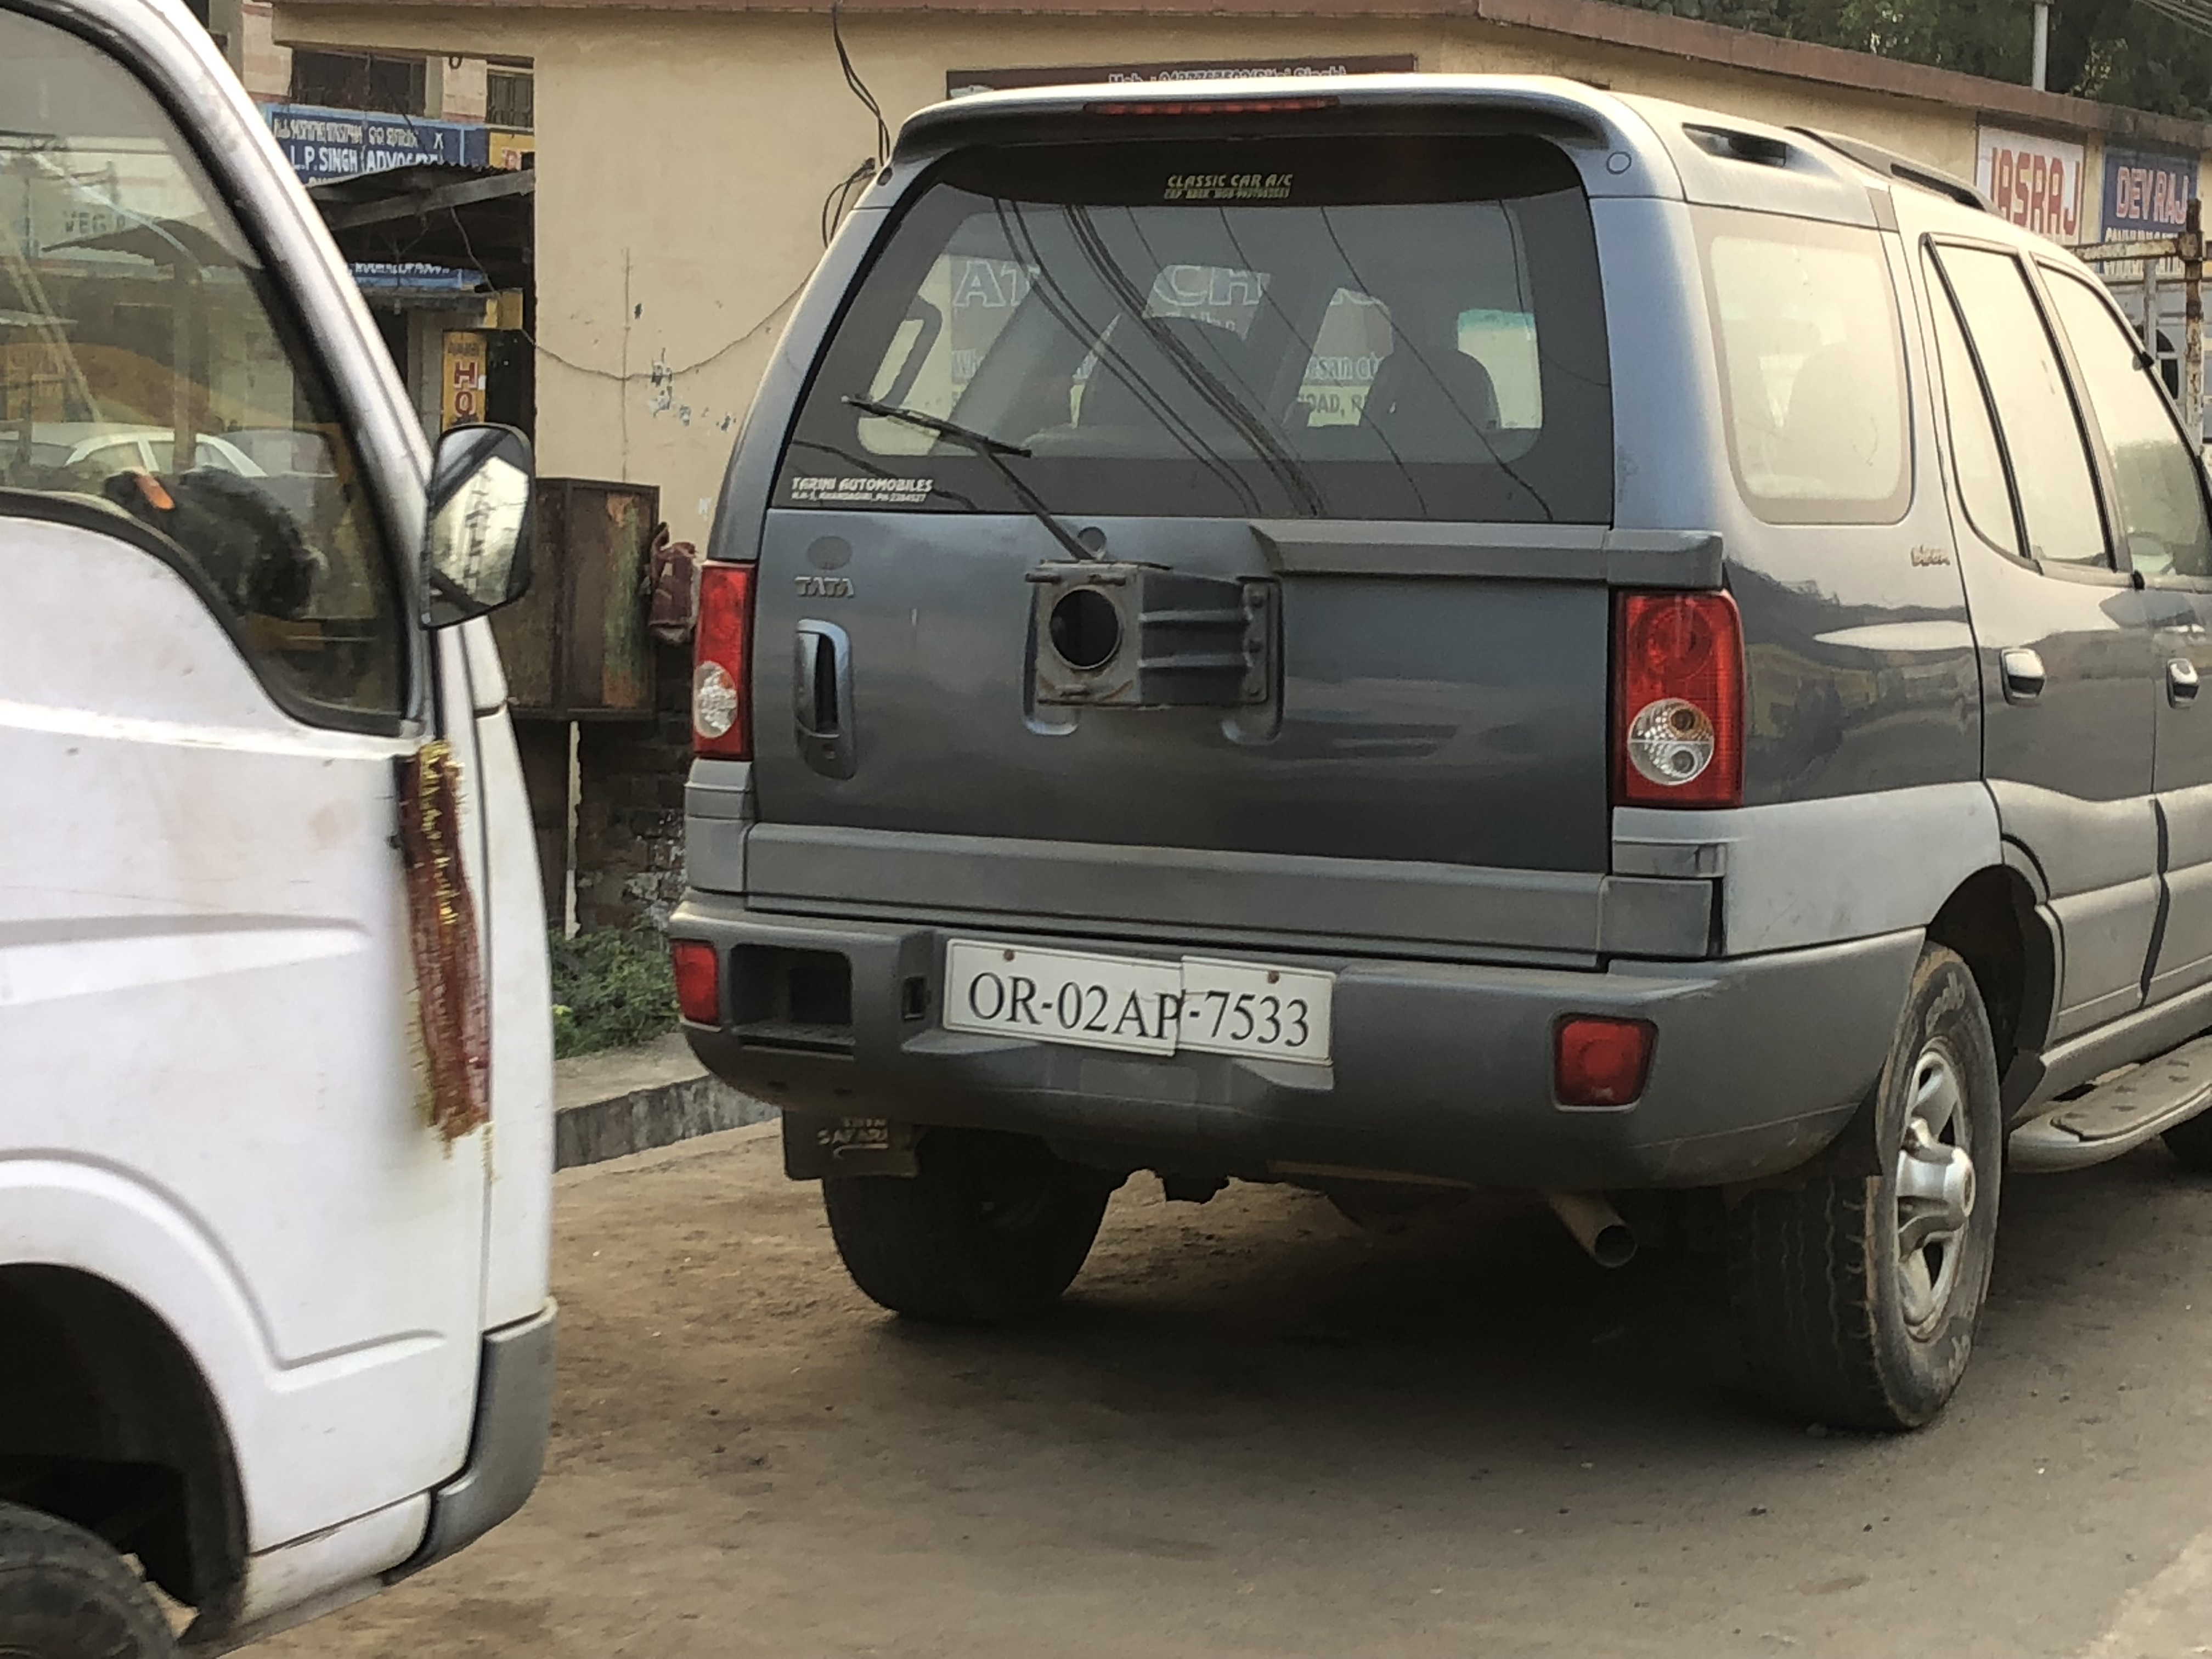licenseplate: (934, 929, 1350, 1072)
